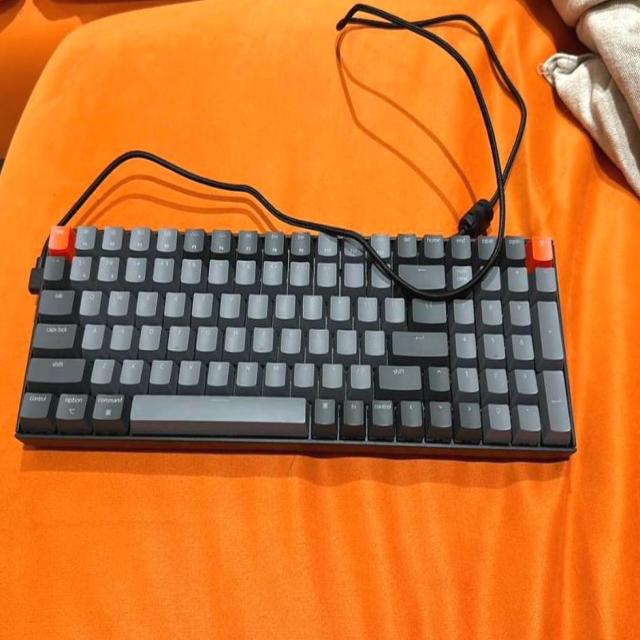keyboard: (14, 223, 576, 464)
